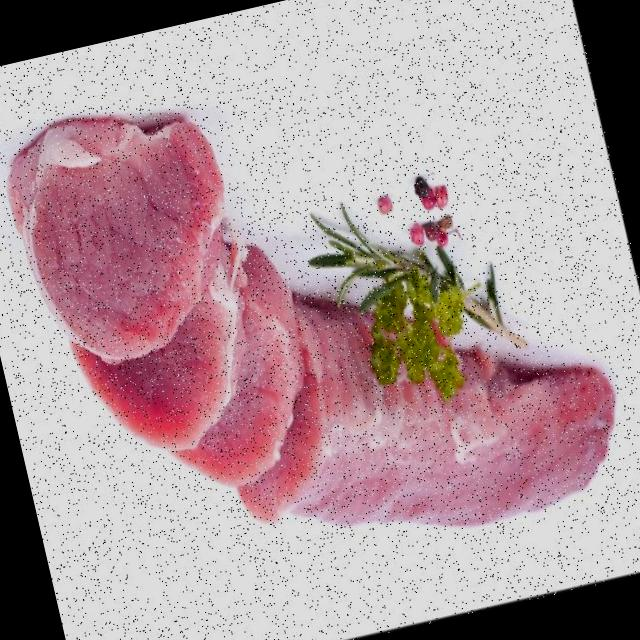pork: (204, 279, 640, 580), (1, 74, 261, 370), (128, 252, 330, 508), (58, 272, 264, 472)
